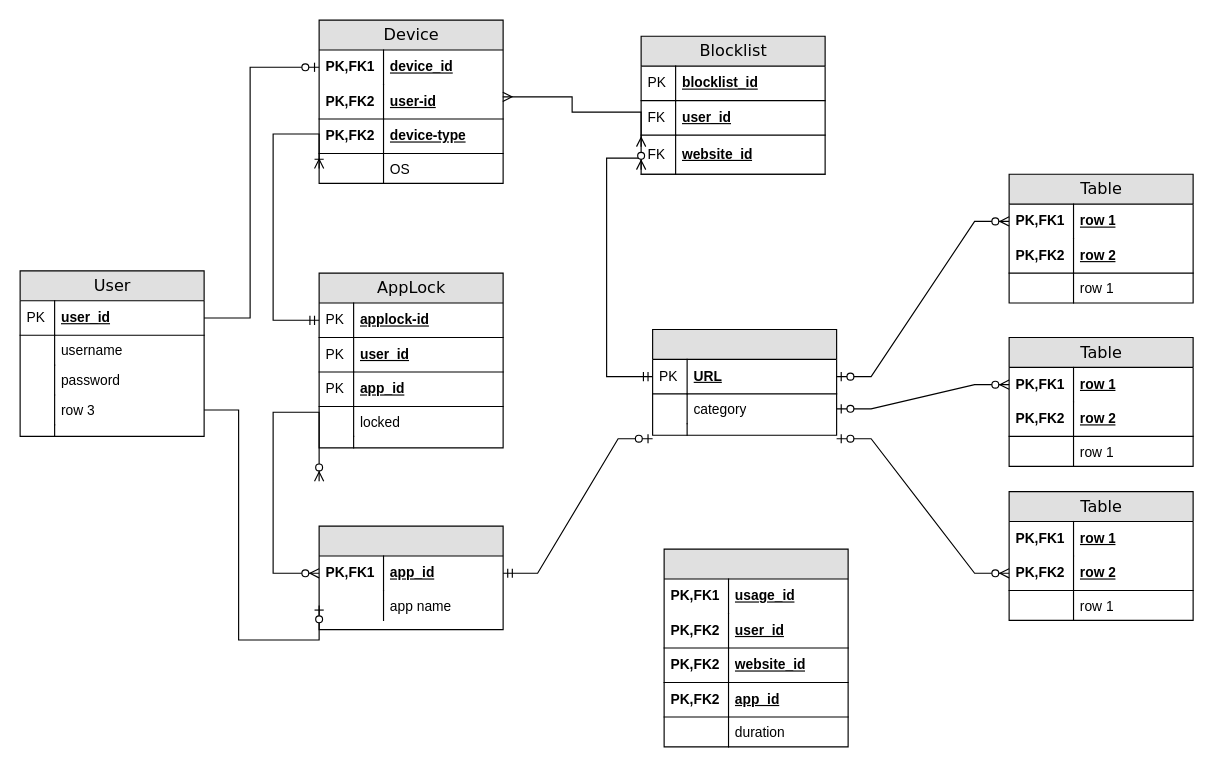
Some shapes in this 1213 by 771 pixel diagram are drawn without their labels. Each missing label, with the box of its shape:
Application: (318, 525, 503, 630)
UsageData: (663, 548, 848, 747)
Website: (651, 328, 837, 435)
